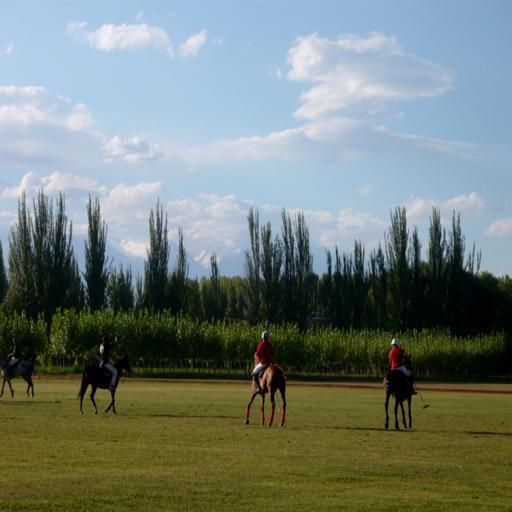horse: (242, 352, 289, 428), (74, 356, 132, 414), (382, 353, 414, 431), (0, 351, 37, 398)
